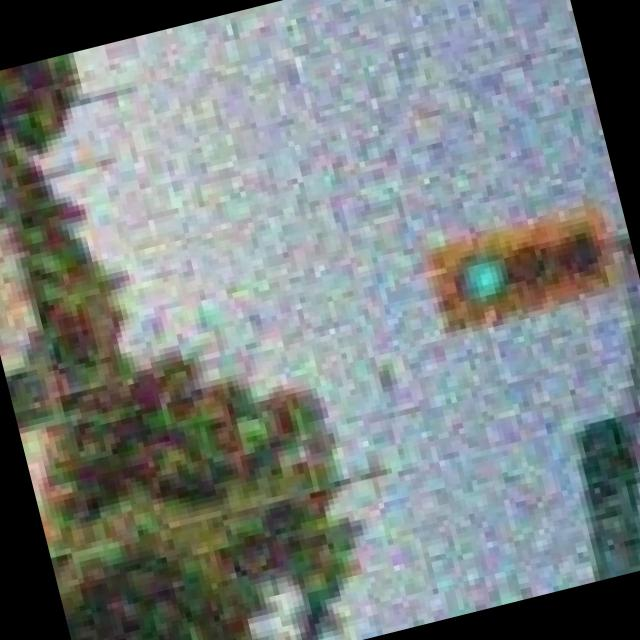green-lights: (434, 233, 516, 322)
